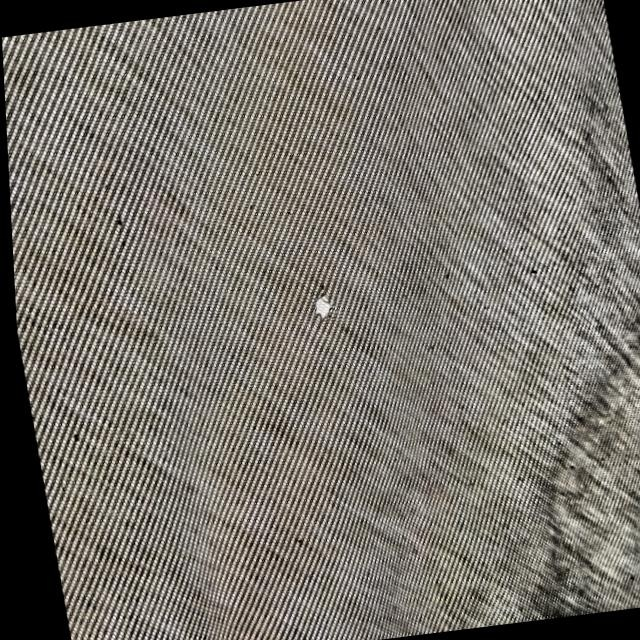Hole: (295, 274, 351, 336)
